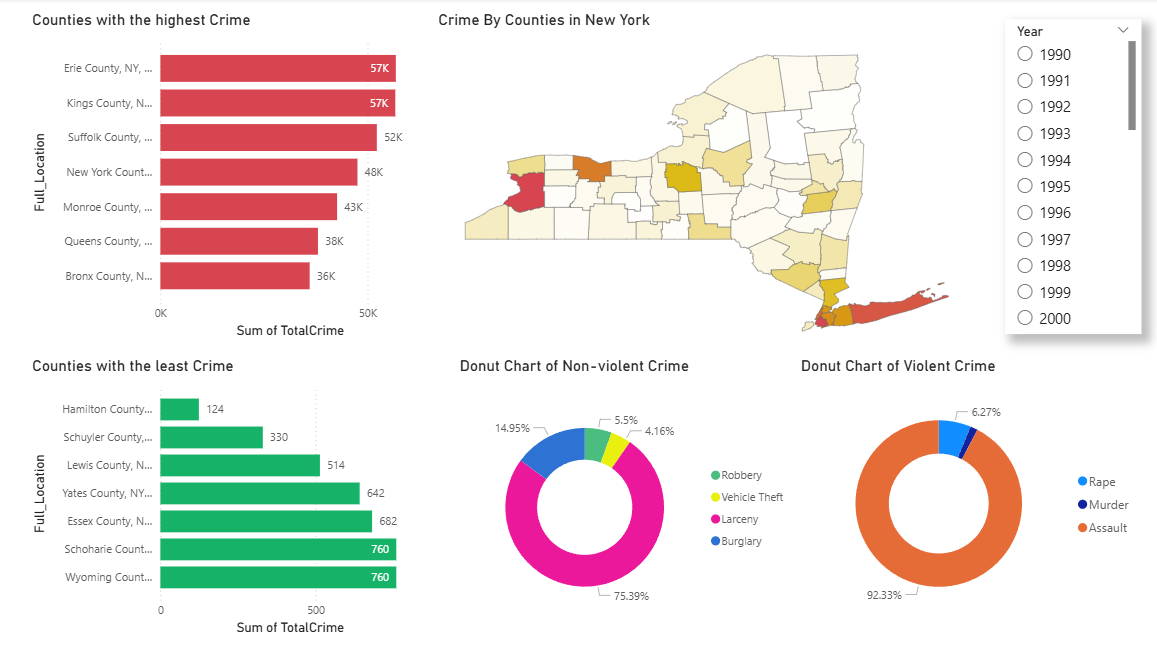

What the dashboard file says about the page in this screenshot:
{"tool":"powerbi","page":{"name":"Page 1","canvas":[1280,720],"ordinal":0},"visuals":[{"type":"shapeMap","title":"Crime By Counties in New York","fields":{"Value":["Sum(draft_crime_dataset1.TotalCrime)"],"Category":["draft_crime_dataset1.County_Fixed"]},"box":[483,13.7,599.7,380.1],"z":0},{"type":"donutChart","title":"Donut Chart of Non-violent Crime","fields":{"Y":["Sum(draft_crime_dataset1.Robbery)","Sum(draft_crime_dataset1.Motor Vehicle Theft)","Sum(draft_crime_dataset1.Larceny)","Sum(draft_crime_dataset1.Burglary)"]},"box":[506.3,393.8,374.6,310.1],"z":1000},{"type":"slicer","fields":{"Values":["draft_crime_dataset1.Year Hierarchy.Year"]},"box":[1110.1,23.3,149.6,345.8],"z":2000},{"type":"donutChart","title":"Donut Chart of Violent Crime","fields":{"Y":["Sum(draft_crime_dataset1.Rape)","Sum(draft_crime_dataset1.Murder)","Sum(draft_crime_dataset1.Aggravated Assault)"]},"box":[881,393.8,378.7,301.9],"z":3000},{"type":"clusteredBarChart","title":"Counties with the least Crime","fields":{"Y":["Sum(draft_crime_dataset1.TotalCrime)"],"Category":["draft_crime_dataset1.Full_Location"]},"box":[37,393.8,446,310.1],"z":4000},{"type":"clusteredBarChart","title":"Counties with the highest Crime","fields":{"Y":["Sum(draft_crime_dataset1.TotalCrime)"],"Category":["draft_crime_dataset1.Full_Location"]},"box":[37,13.7,446,365],"z":5000}]}

Visuals, with their boxes in screenshot pixels (x1, y1, x2, y2), scaled from the page's 1280x720 canvas onto the 1157x647 screenshot:
"Crime By Counties in New York" shapeMap: [x1=437, y1=12, x2=979, y2=354]
"Donut Chart of Non-violent Crime" donutChart: [x1=458, y1=354, x2=796, y2=633]
slicer - draft_crime_dataset1.Year Hierarchy.Year: [x1=1003, y1=21, x2=1139, y2=332]
"Donut Chart of Violent Crime" donutChart: [x1=796, y1=354, x2=1139, y2=625]
"Counties with the least Crime" clusteredBarChart: [x1=33, y1=354, x2=437, y2=633]
"Counties with the highest Crime" clusteredBarChart: [x1=33, y1=12, x2=437, y2=340]
